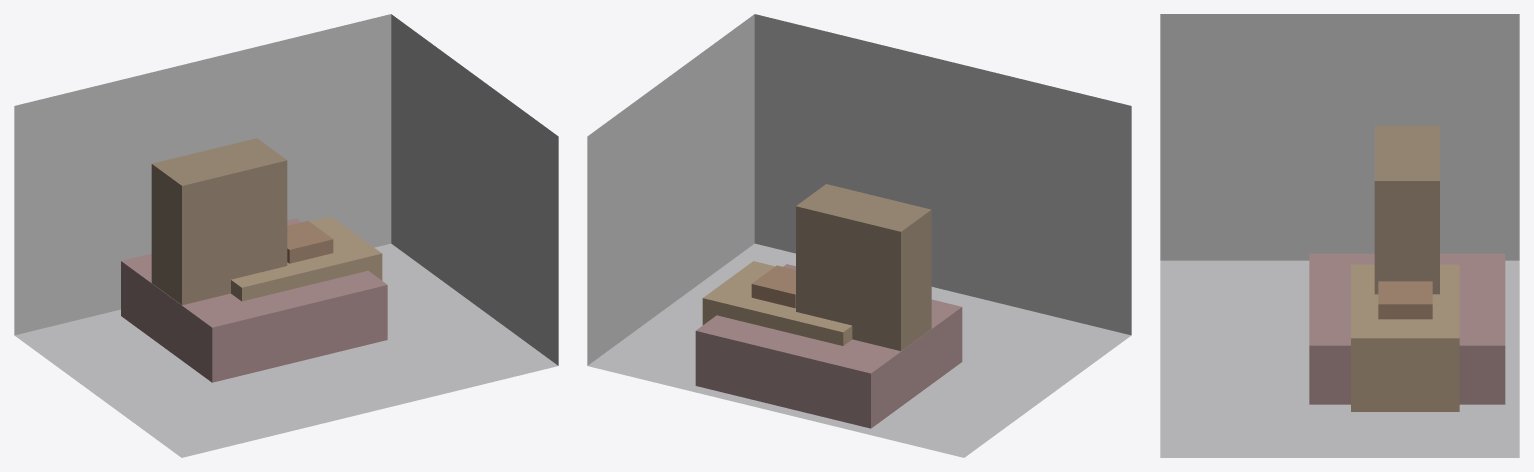
The model's file is current_layout.glb.
The picture shows the model from 3 angles, left to right: view 1: azimuth 30°, elevation 25°; view 2: azimuth 150°, elevation 25°; view 3: azimuth 270°, elevation 25°; orthographic projection. The views are drawn at different scales.
Visible parts, largest first — view 1: room, bed, wardrobe, dining table, chair; view 2: room, bed, wardrobe, dining table, chair; view 3: room, bed, dining table, wardrobe, chair.
Part boxes in pixels (x1=…): room: x1=14, y1=14, x2=558, y2=457; bed: x1=121, y1=218, x2=387, y2=382; wardrobe: x1=151, y1=138, x2=287, y2=305; dining table: x1=231, y1=216, x2=382, y2=301; chair: x1=287, y1=221, x2=333, y2=263; room: x1=587, y1=14, x2=1131, y2=457; bed: x1=695, y1=264, x2=962, y2=428; wardrobe: x1=796, y1=184, x2=931, y2=350; dining table: x1=702, y1=261, x2=852, y2=345; chair: x1=751, y1=265, x2=795, y2=308; room: x1=1160, y1=14, x2=1519, y2=457; bed: x1=1309, y1=253, x2=1505, y2=404; dining table: x1=1351, y1=264, x2=1459, y2=411; wardrobe: x1=1374, y1=125, x2=1439, y2=294; chair: x1=1378, y1=281, x2=1432, y2=319.
Bounding box in the file's own units: 4.3 × 2.5 × 3.3.
